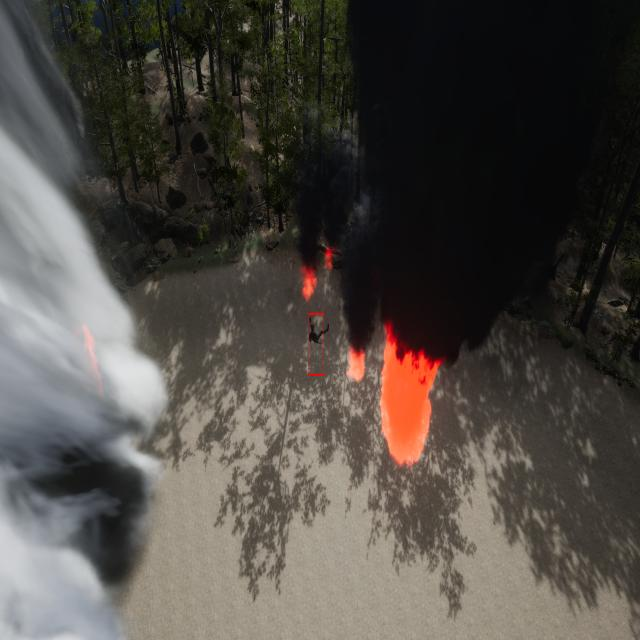Human: (305, 310, 334, 354)
